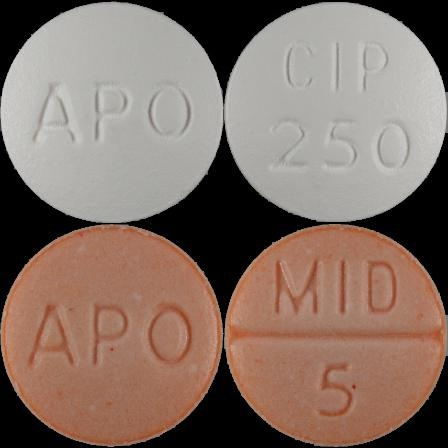60505-1308: (0, 0, 224, 224)
